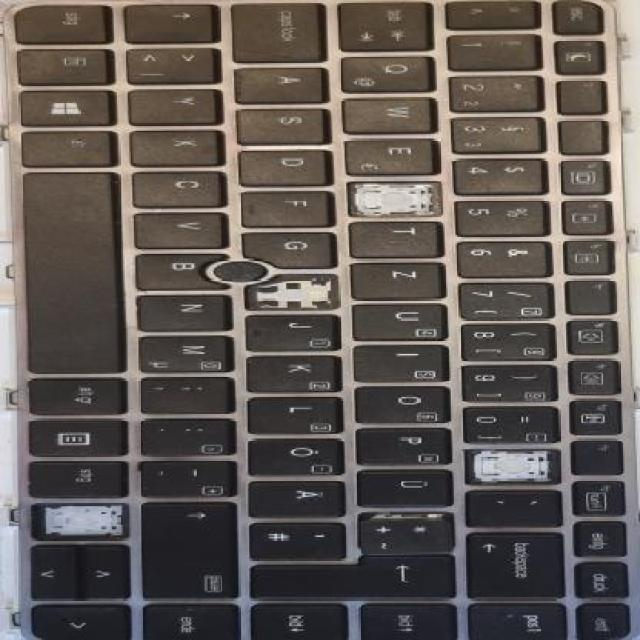Keyboard problems: (31, 505, 128, 538), (245, 275, 337, 309), (349, 183, 440, 215), (466, 449, 558, 480)
